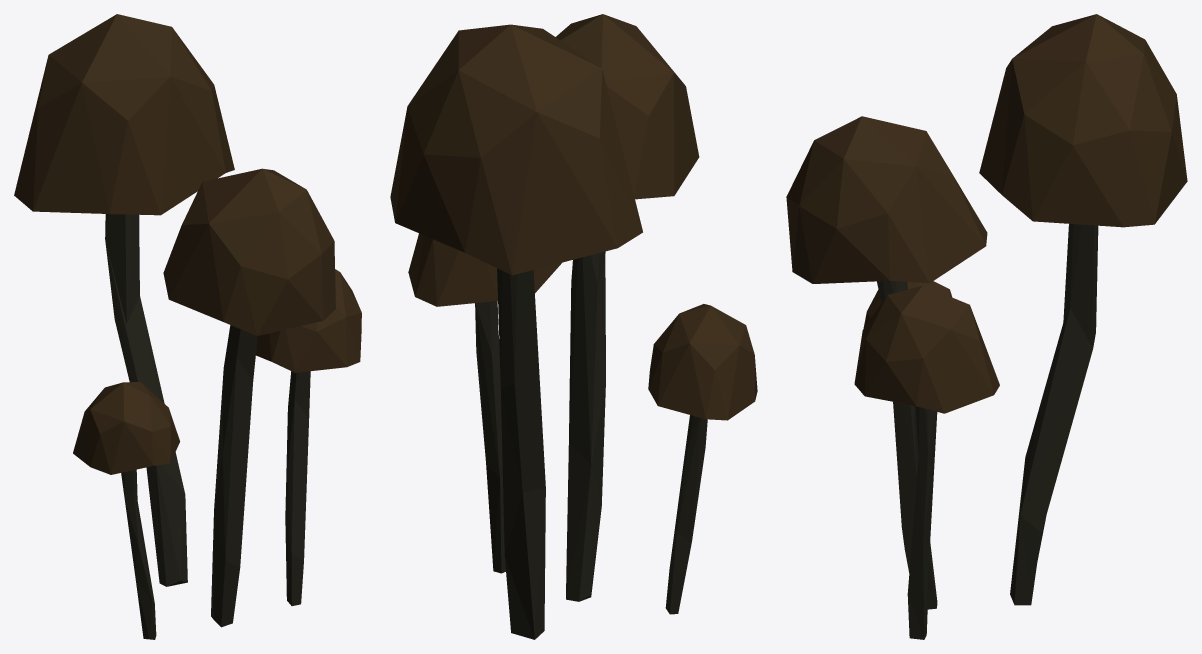
The model's file is mushroom18.obj.
3 renders of one model, left to right at view 1: azimuth 30°, elevation 25°; view 2: azimuth 150°, elevation 25°; view 3: azimuth 270°, elevation 25°, orthographic. The views are drawn at different scales.
Visible parts, largest first — view 1: Mushroom1_1_Cube.025; view 2: Mushroom1_1_Cube.025; view 3: Mushroom1_1_Cube.025.
Boxes of the visible parts, x1,y1,x2,y2 form: Mushroom1_1_Cube.025: (14,14,361,639); Mushroom1_1_Cube.025: (390,14,757,639); Mushroom1_1_Cube.025: (786,14,1187,639).
Size of the model in its own units: 0.3518 by 0.6732 by 0.4203.
